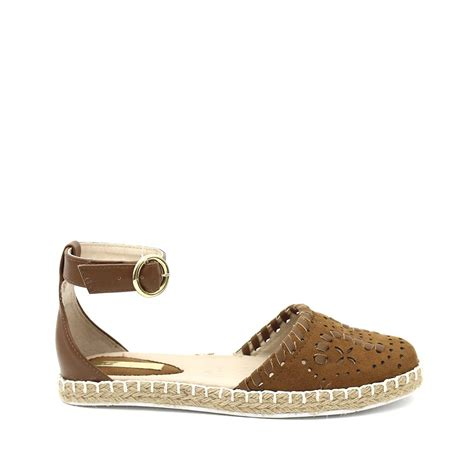gamuza: (234, 302, 422, 392)
